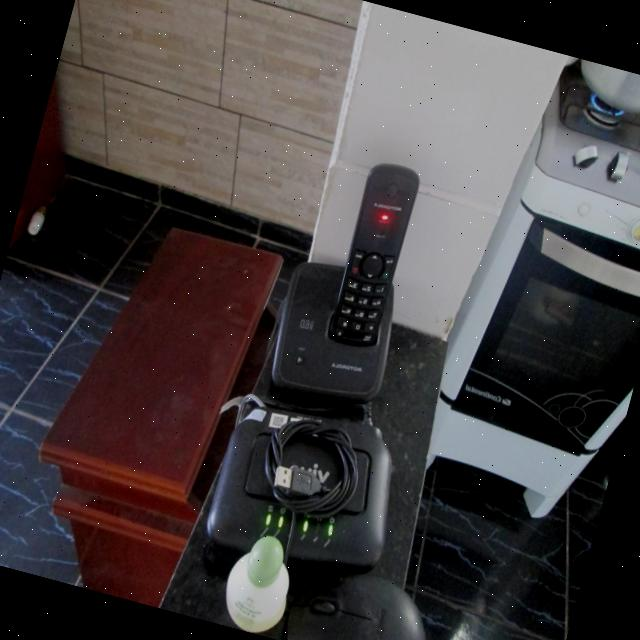Phone: (264, 148, 436, 410)
